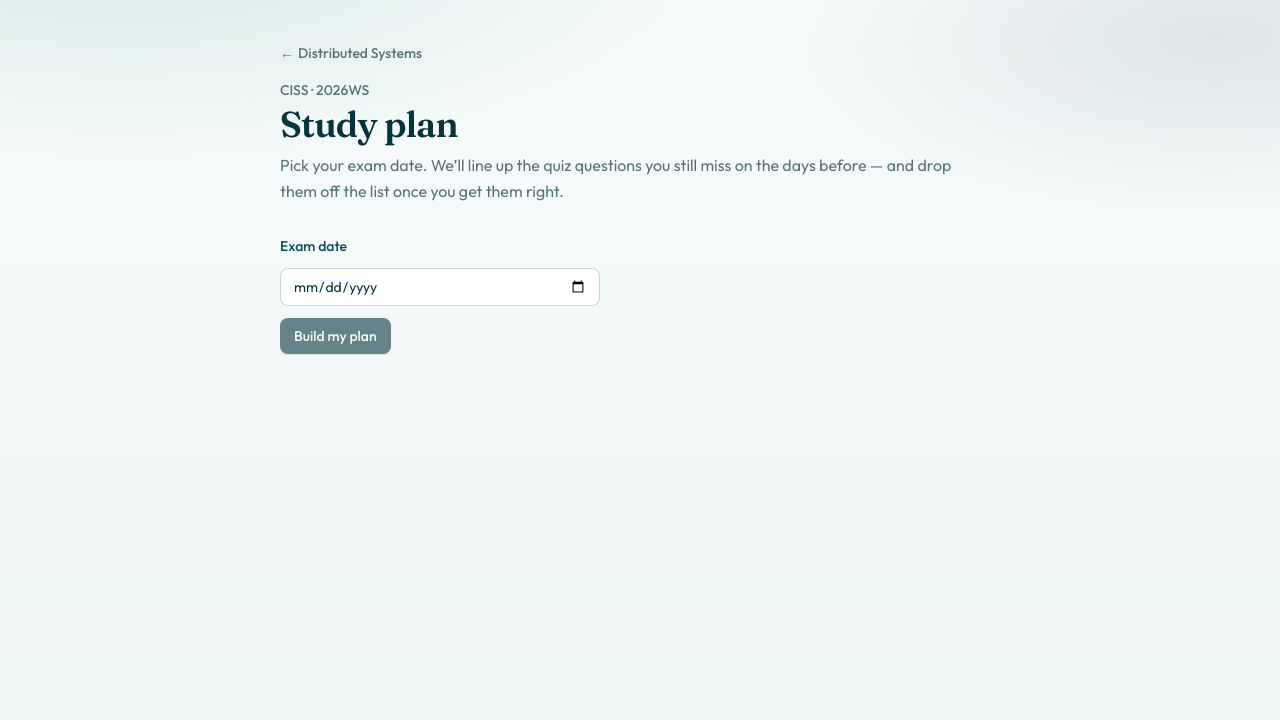
it: course plan page › builds a plan that schedules a missed question before the exam
Check: the heading "Study plan" is shown, box [280,102,458,146]
Type "2026-11-06" into the date field labelled "Exam date" at (440, 287), box [280,268,600,306]
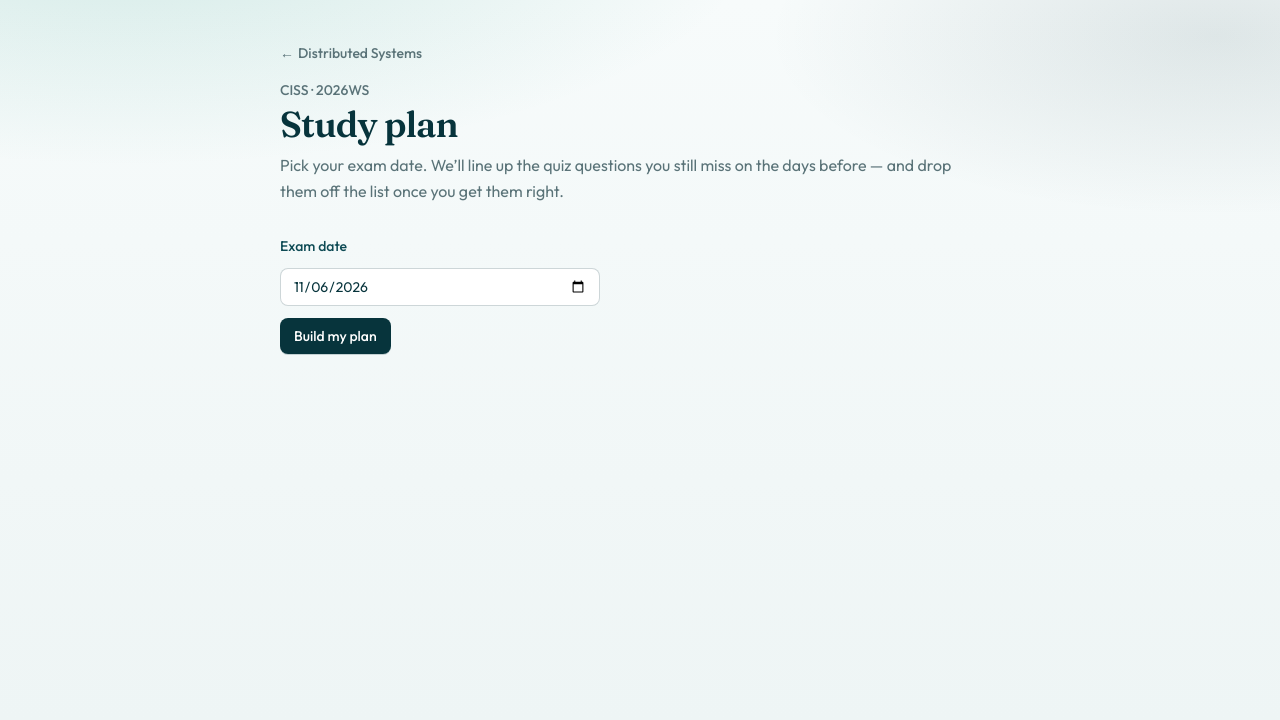
Click the button "Build my plan" at (335, 336), box [280,318,391,354]
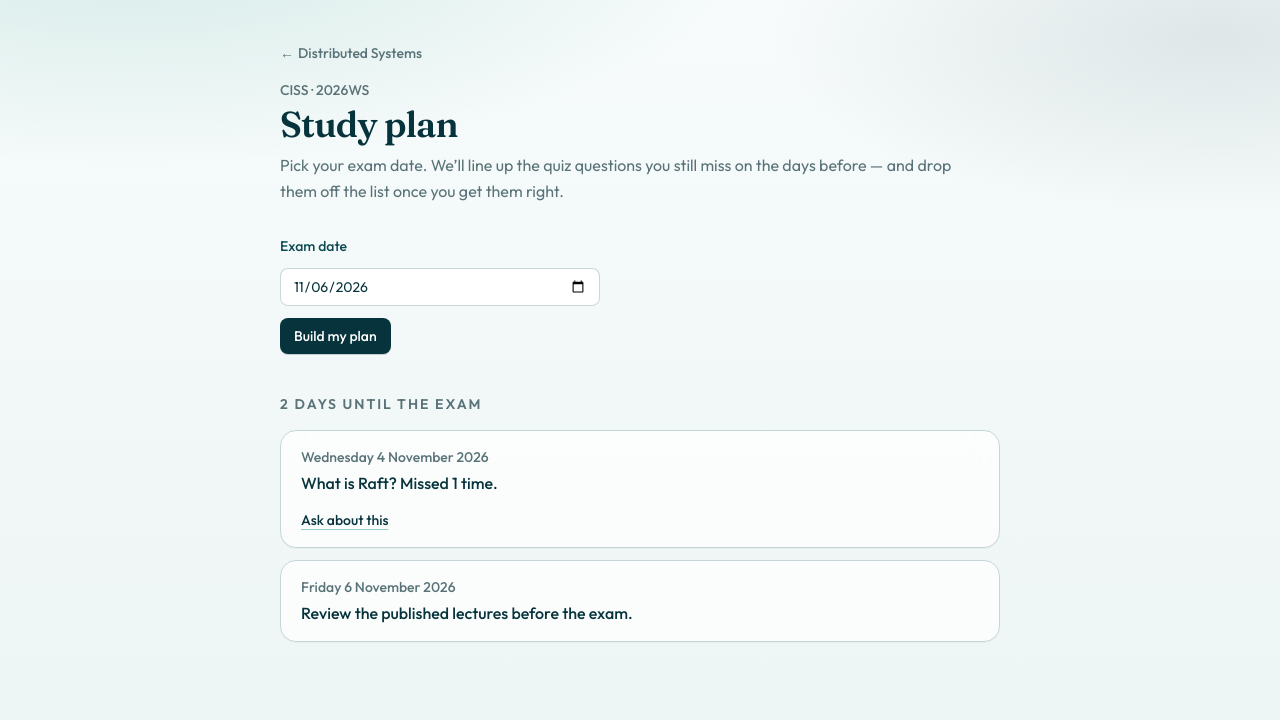
Check: the heading "2 days until the exam" is shown, box [280,395,482,413]
Check: the text "What is Raft? Missed 1 time." is shown, box [301,473,498,493]
Check: the text "Review the published lectures before the exam." is shown, box [301,603,633,623]
